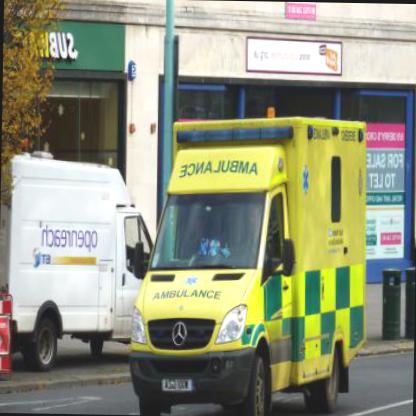truck: (126, 111, 372, 415)
